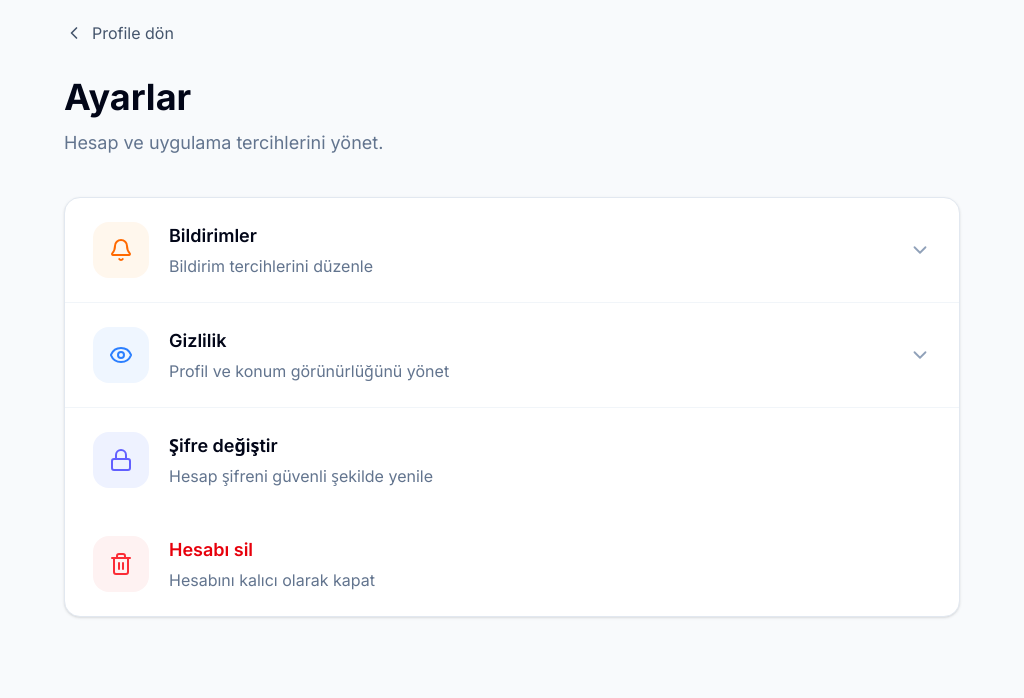
Test: SettingsPage — çevre uyarıları › mevcut abonelik yüklenir: anahtar açık, yarıçap ve koordinatlar dolu
This screenshot has width=1024, height=698.
Step 1. Click the button "Bildirimler Bildirim tercihlerini düzenle" → {"x": 121, "y": 250}, box 65,198 -> 959,302
(page scrolled)
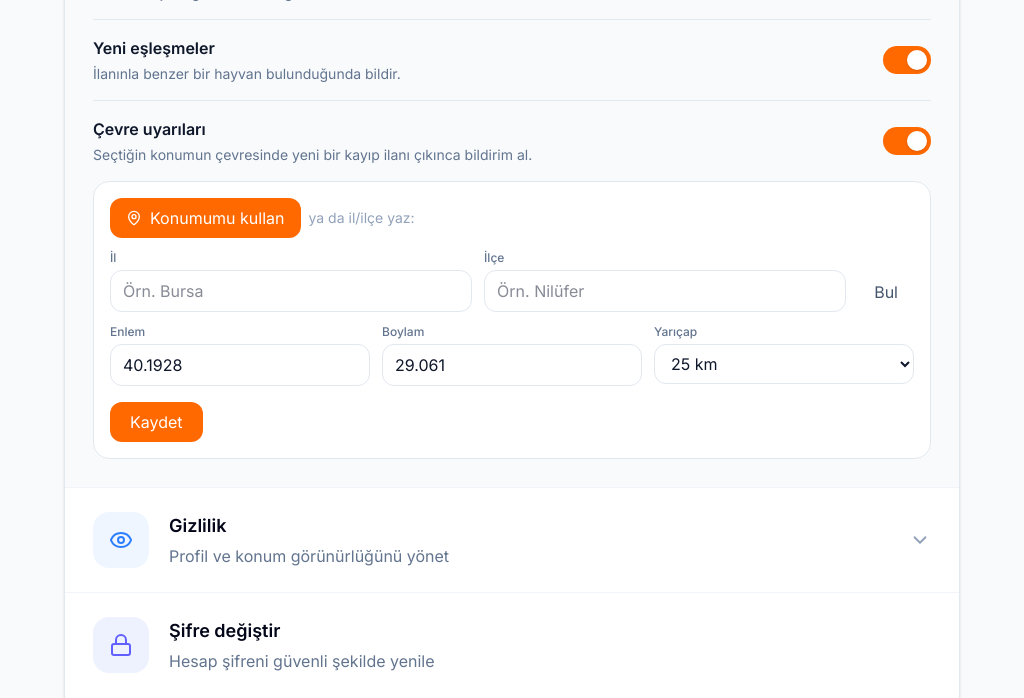
Check: the dropdown labelled "Yarıçap" shows "25 km", box 654,344 -> 914,384
Check: the field labelled "Enlem" holds "40.1928", box 110,344 -> 370,386
Check: the field labelled "Boylam" holds "29.061", box 382,344 -> 642,386
